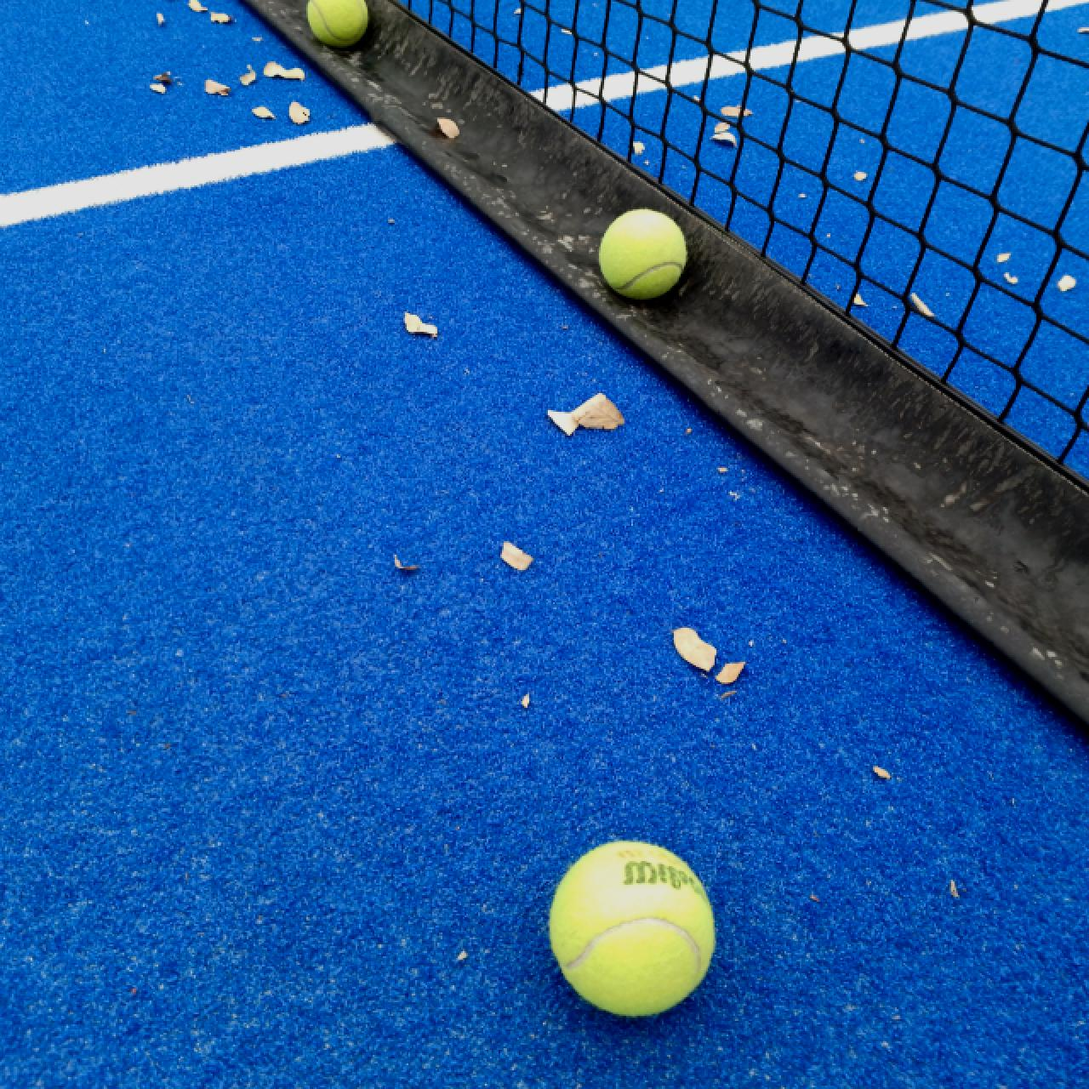tennis-ball: (549, 837, 718, 1021), (599, 206, 688, 300), (303, 0, 370, 49)
